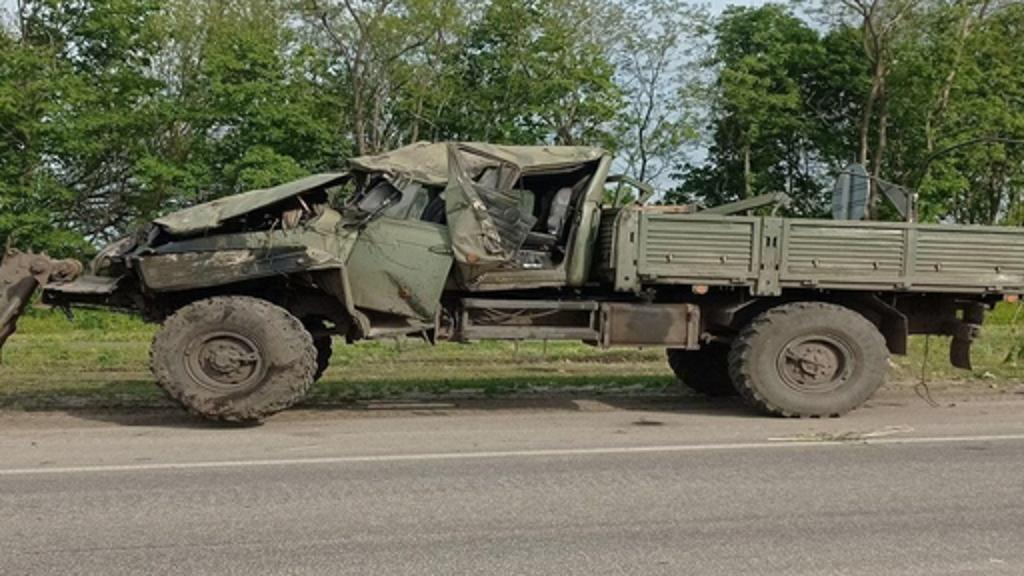TRUCK: (26, 122, 1022, 432)
